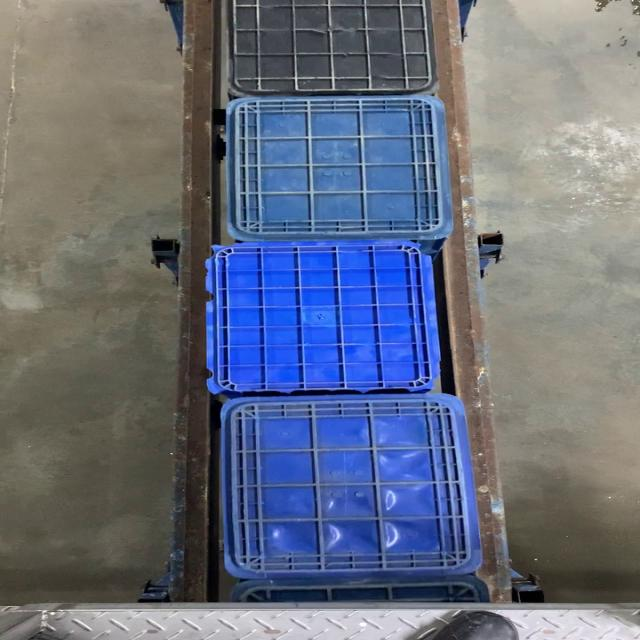Box: (213, 395, 487, 576), (223, 96, 456, 242)
Damaged_box: (199, 243, 447, 393)
